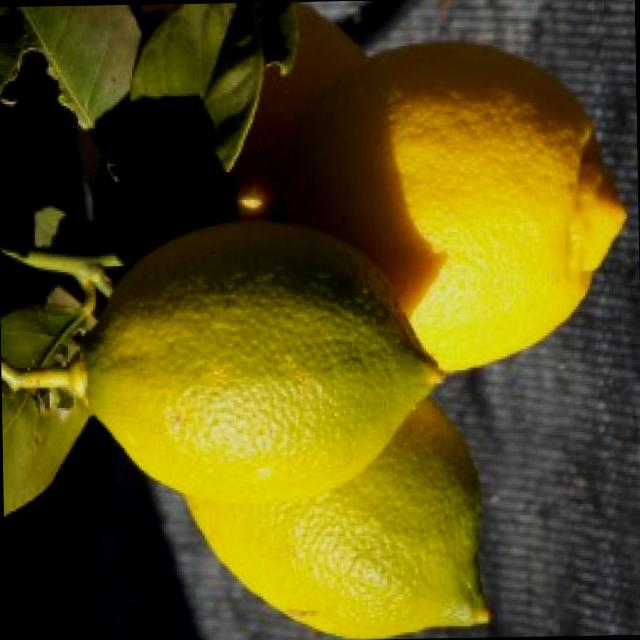mango: (264, 31, 638, 378), (75, 219, 450, 487), (167, 398, 494, 640)
